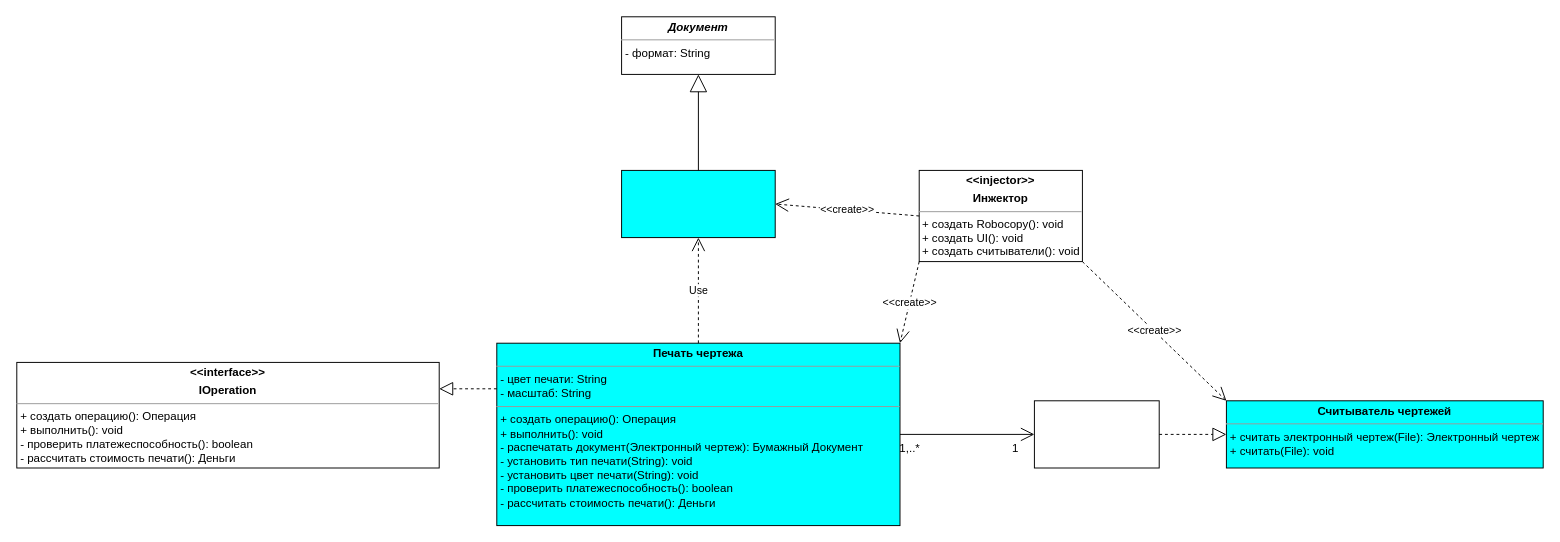
Image size: 1560x542. Some labels were removed from this diagram. Each missing label, with the centre of its shape:
<<interface>> Считыватель + считать(File): void: the point at 1096,434
Электронный чертеж - содержимое: String - масштаб: String: the point at 698,203
